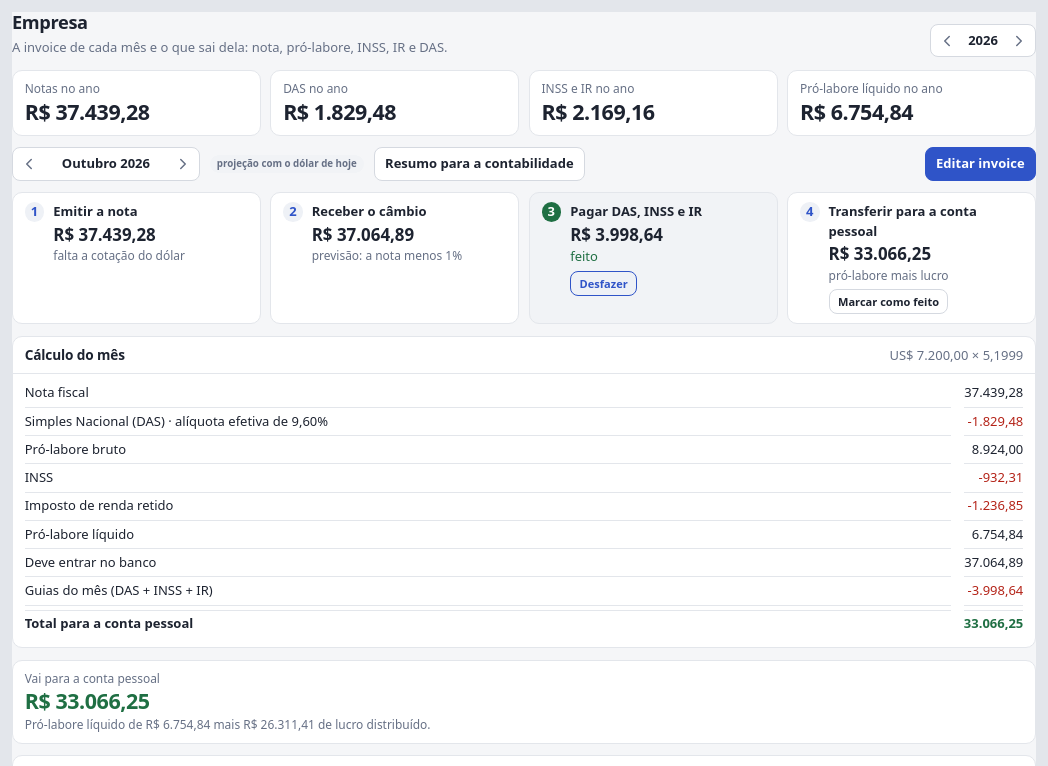
Test: CompanyPage › shows a closed month with what actually came in and what goes to the owner
This screenshot has width=1048, height=766.
What coordinates should you click on to do the following:
click the button named "Mês anterior"
I would click on:
 (29, 164)
Its box is [15, 150, 42, 178].
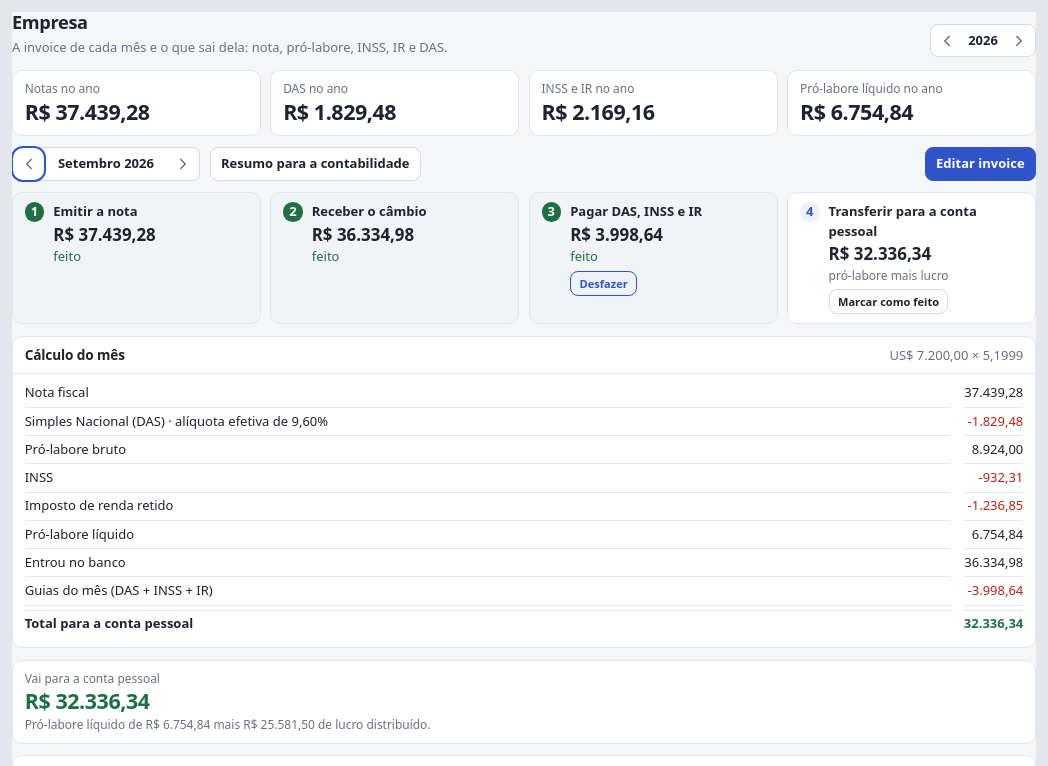
expect the text "Setembro 2026" is shown: met, box [58, 154, 154, 172]
expect the list item "1 Emitir a nota R$ 37.439,28 feito" is shown: met, box [12, 192, 261, 324]
expect the list item "2 Receber o câmbio R$ 36.334,98 feito" is shown: met, box [270, 192, 519, 324]
